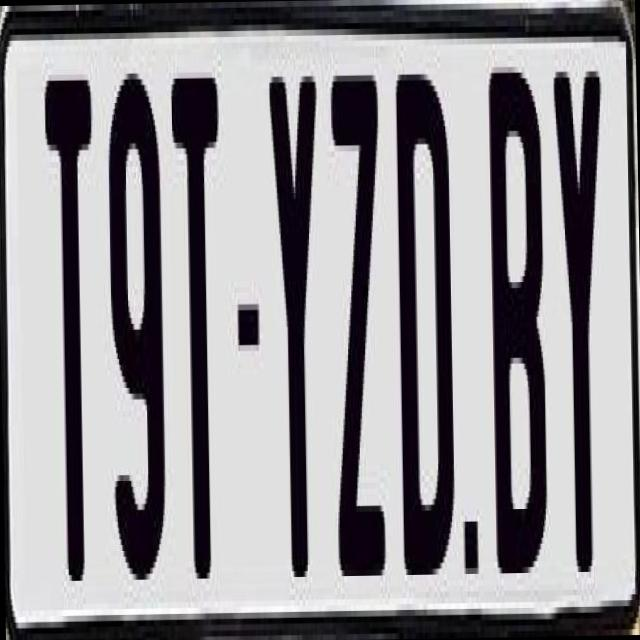9: (102, 60, 170, 598)
B: (485, 60, 549, 573)
D: (392, 67, 454, 604)
T: (41, 74, 104, 598), (170, 77, 226, 614)
Y: (269, 70, 328, 600), (550, 53, 608, 555)
Z: (328, 57, 392, 594)
